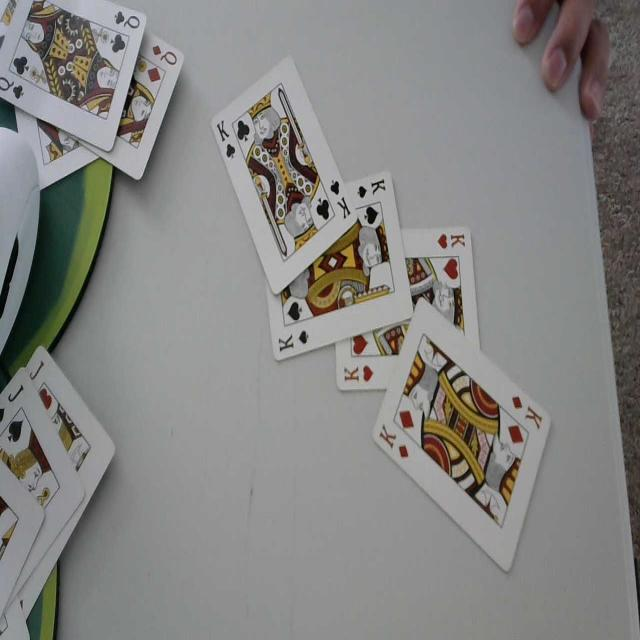KC: (329, 178, 351, 220), (216, 119, 236, 159)
KD: (377, 421, 412, 464), (510, 392, 544, 431)
KH: (343, 363, 375, 384), (437, 229, 468, 249)
KS: (277, 328, 311, 353), (355, 177, 386, 200)
QD: (152, 41, 178, 68)
QS: (114, 9, 140, 31)
